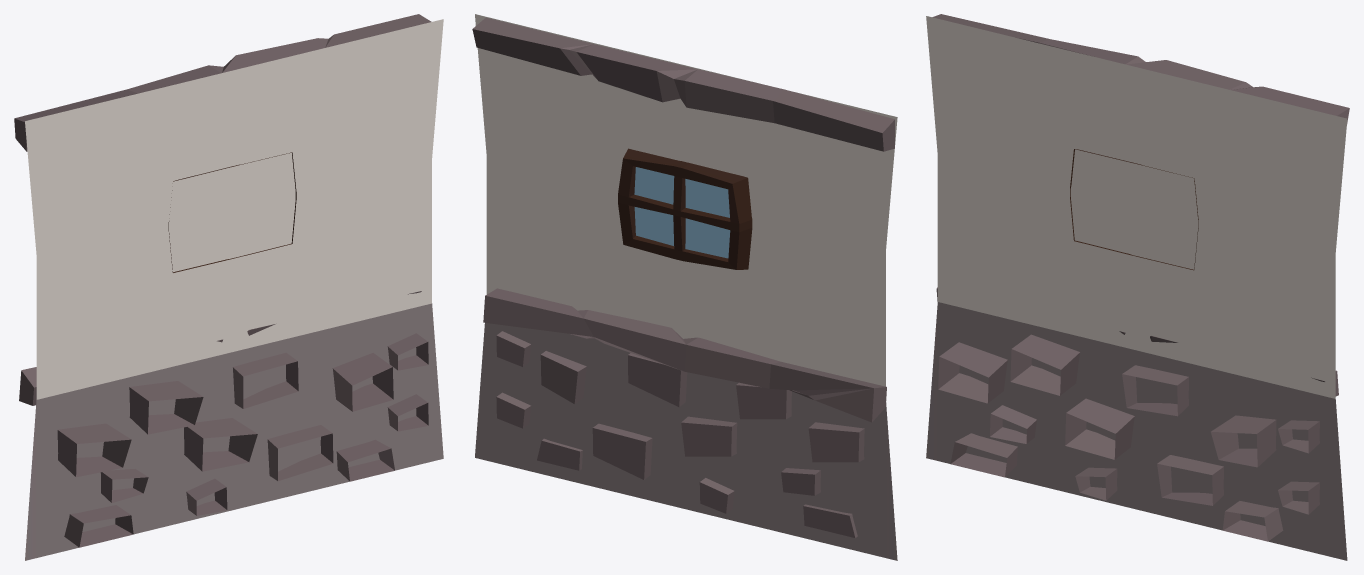
The model's file is SM_L_R_Home_Side_2.fbx.
3 views of the same model, side by side, from view 1: azimuth 30°, elevation 25°; view 2: azimuth 150°, elevation 25°; view 3: azimuth 330°, elevation 25° (orthographic).
Parts seen in each view (by area): view 1: SM_L_R_Home_Side_2; view 2: SM_L_R_Home_Side_2; view 3: SM_L_R_Home_Side_2.
Part boxes in pixels (x1,y1,x2,y2): SM_L_R_Home_Side_2: [14, 14, 443, 560]; SM_L_R_Home_Side_2: [472, 14, 897, 560]; SM_L_R_Home_Side_2: [926, 14, 1349, 560].
Bounding box in the file's own units: 3 × 3.01 × 0.4699.
